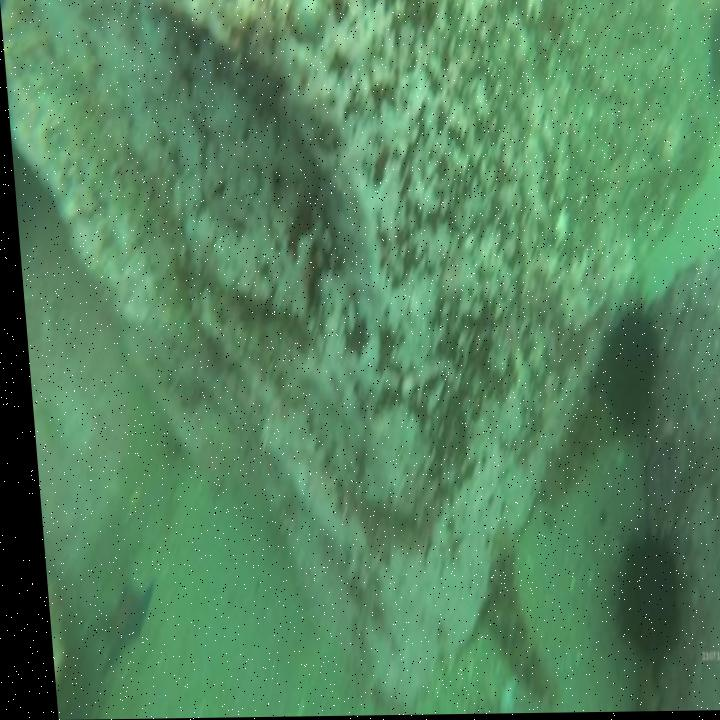echinus: (600, 522, 681, 676), (583, 298, 660, 438)
holothurian: (472, 540, 551, 713), (518, 395, 608, 505)
starfish: (80, 564, 154, 678)
